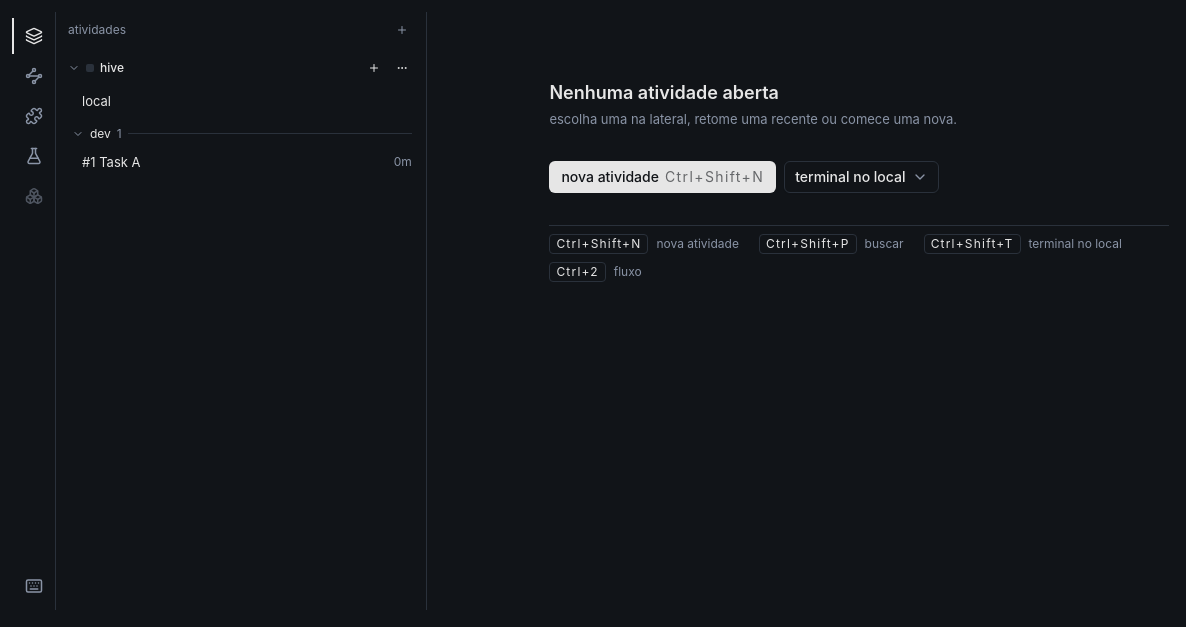
the window opens on the home, which hides the right side without closing it: under Automação it shows, and the home hides it again (redesign 08, #746)
The image size is (1186, 627).
Check: the heading "Nenhuma atividade aberta" is shown, box [549, 82, 779, 103]
Check: the text "detalhes" is not shown
Click the button named "fluxo" at (34, 76), box [12, 58, 56, 94]
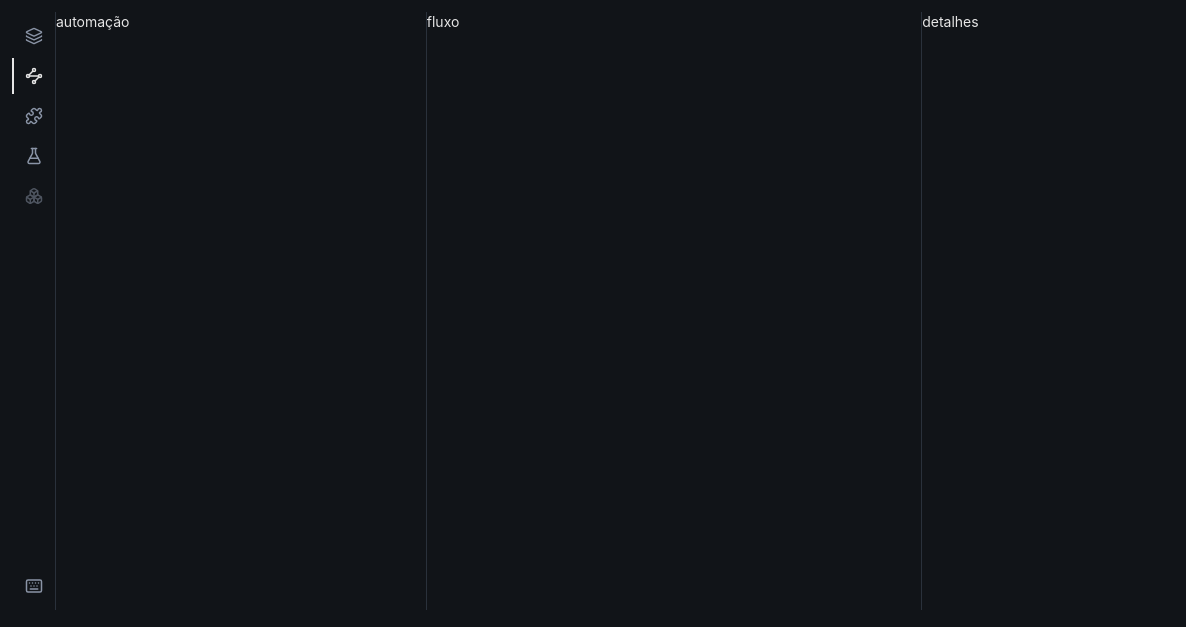
Check: the text "detalhes" is shown, box [922, 13, 979, 30]
Click the button named "atividades" at (34, 36), box [12, 18, 56, 54]
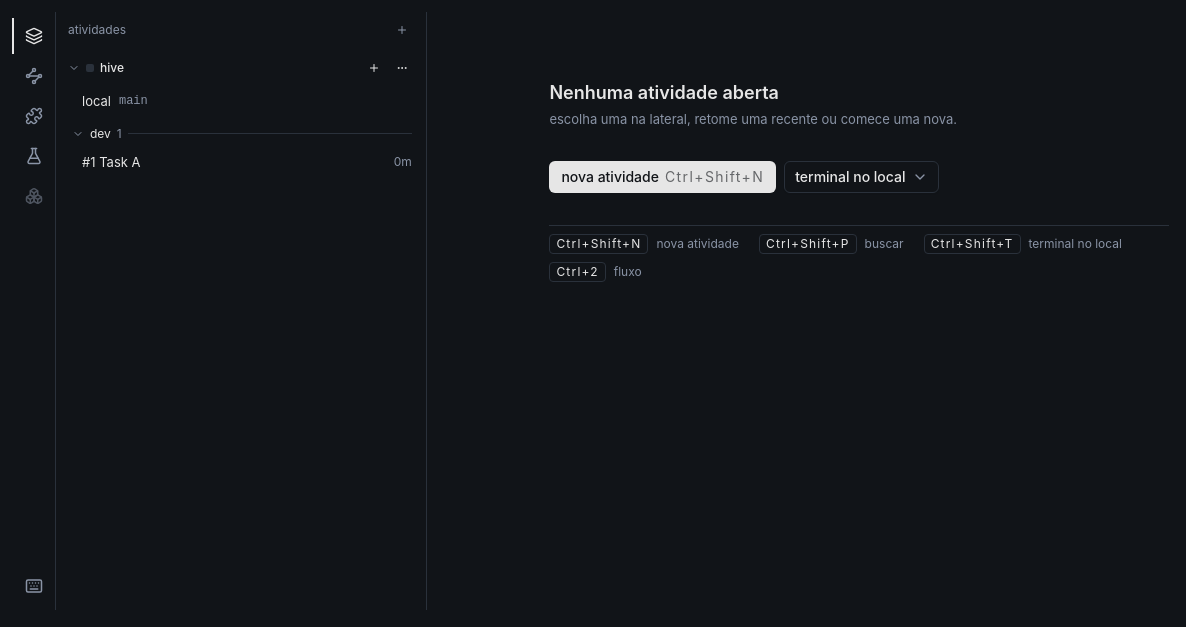
Check: the text "detalhes" is gone
